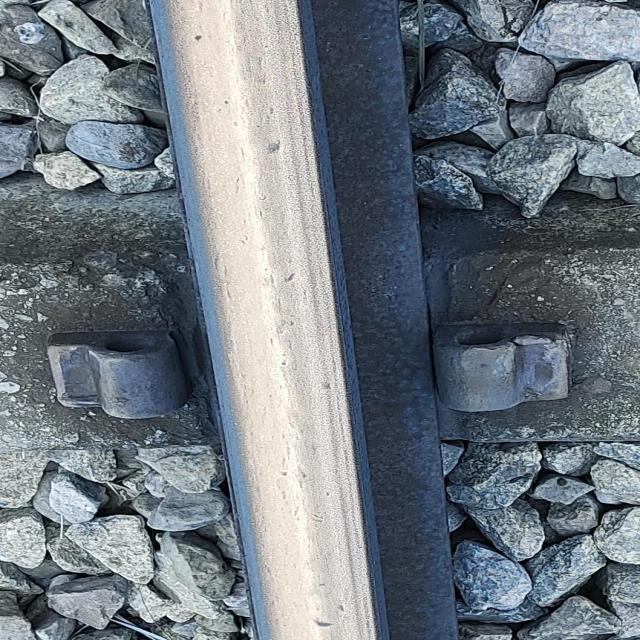Missing Fastener: (434, 278, 639, 443), (0, 306, 219, 450)
